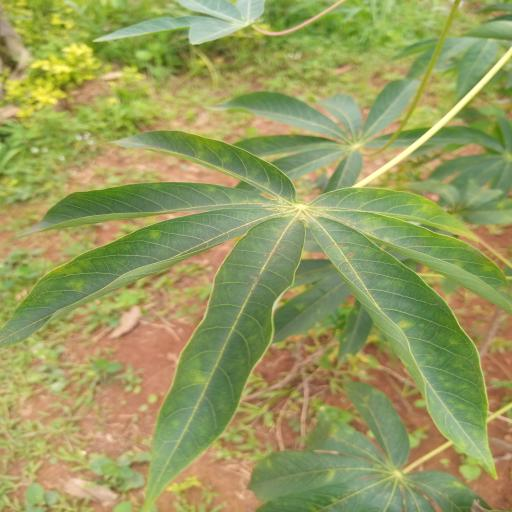Cassava_Mosaic: (5, 125, 498, 486), (251, 383, 493, 512), (223, 81, 448, 191)
